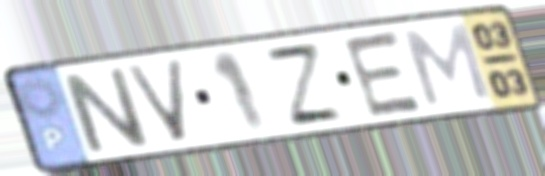1: (209, 47, 273, 137)
E: (339, 27, 429, 121)
M: (399, 21, 495, 109)
N: (56, 64, 156, 157)
V: (120, 56, 191, 145)
Z: (259, 41, 349, 128)
